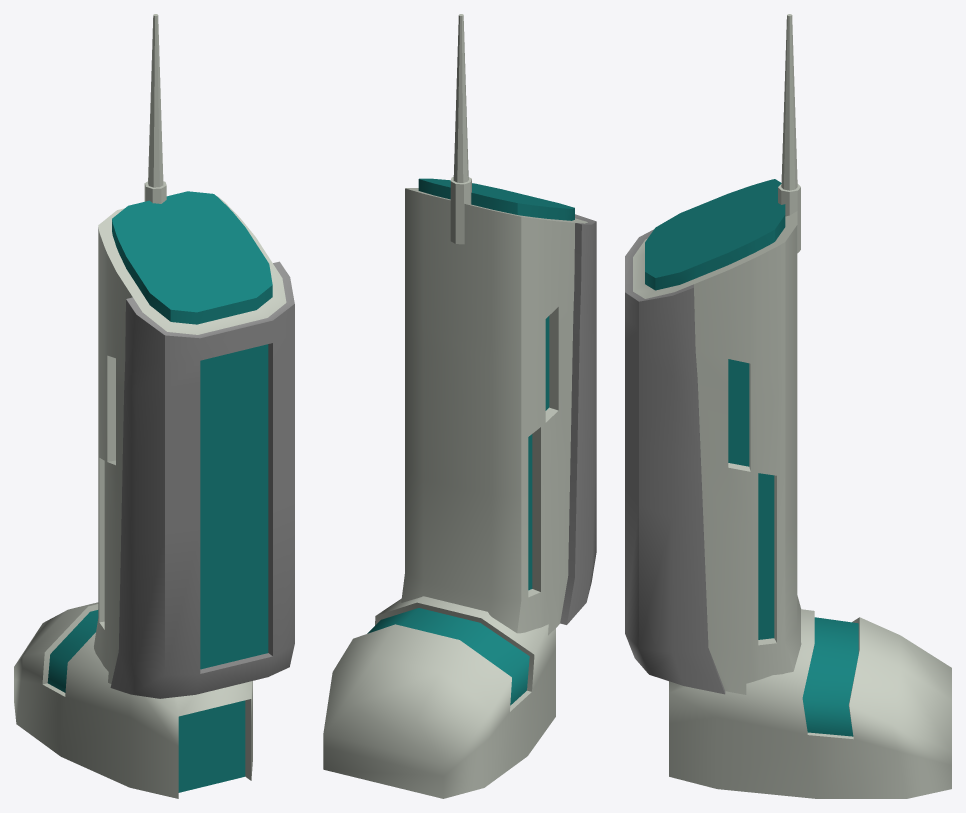
Rendered from SM_skyscraper_A.fbx.
The picture shows the model from 3 angles, left to right: view 1: azimuth 30°, elevation 25°; view 2: azimuth 150°, elevation 25°; view 3: azimuth 270°, elevation 25°; orthographic projection. The views are drawn at different scales.
Visible parts, largest first — view 1: pCube3; view 2: pCube3; view 3: pCube3.
Part boxes in pixels (box(x1,y1,x2,y2)): pCube3: box(14, 14, 294, 798); pCube3: box(323, 14, 596, 798); pCube3: box(625, 14, 951, 798).
Size of the model in its own units: 37.54 by 161 by 64.06.
